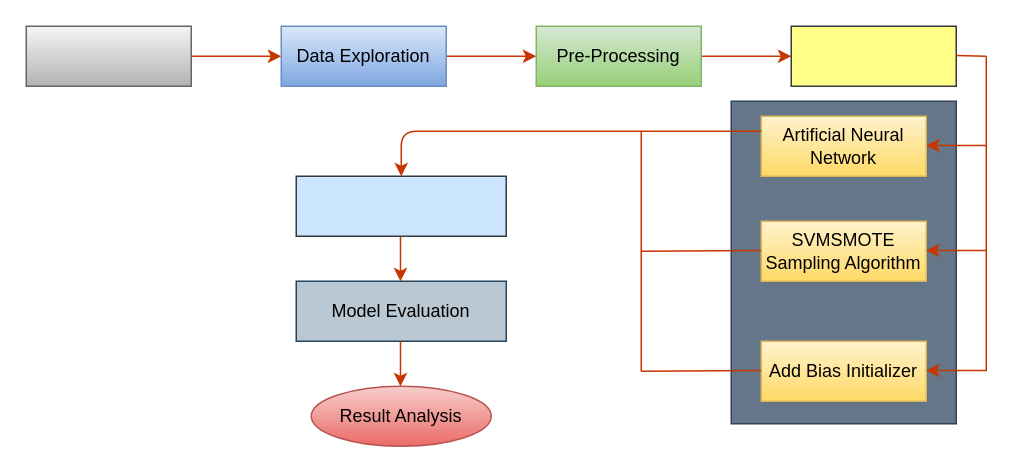
This 1025x473 diagram has some shape labels left out. The shapes that lost their labels are listed below. From the top down, each one's box as (x1, y1, x2, y2) in pixels, then its label:
(25, 25, 191, 86): Input Data
(790, 25, 956, 86): Feature Selection
(295, 175, 506, 236): Build Proposed Neural Network Model
